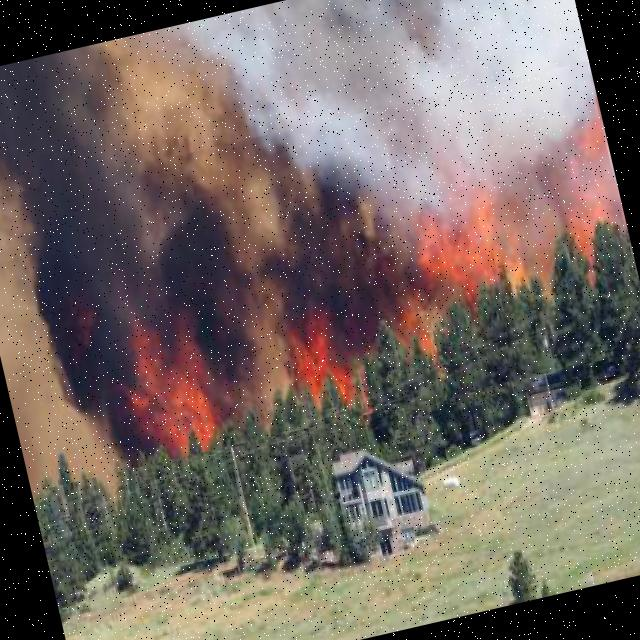fire: (0, 60, 640, 491)
